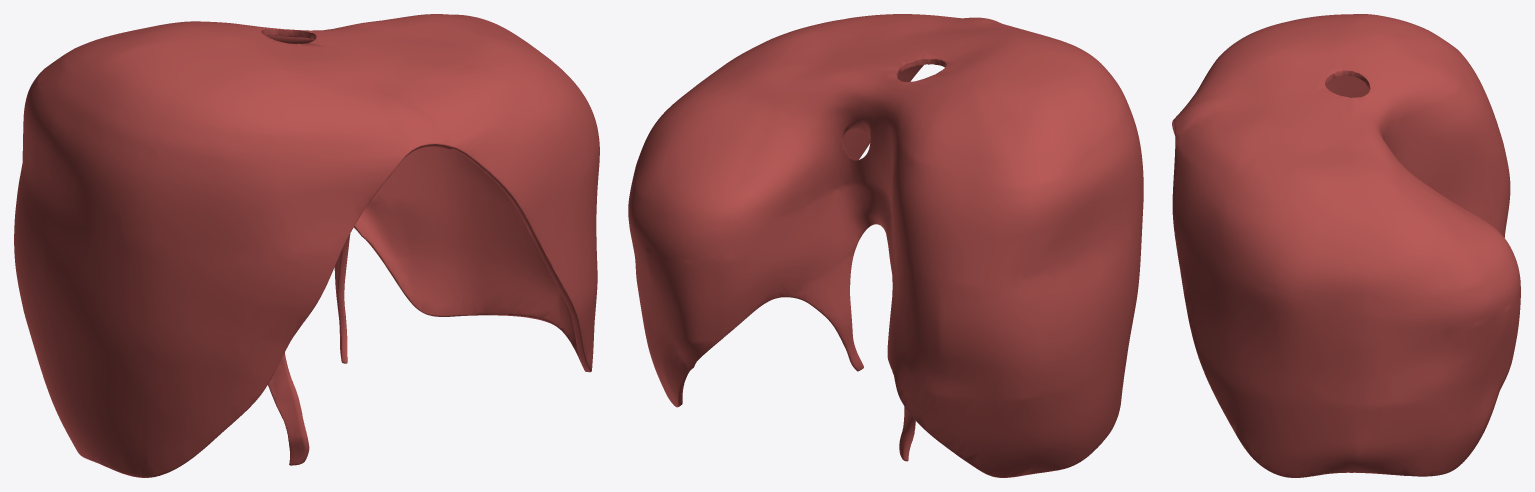
Rendered from diaphragm.glb.
3 views of the same model, side by side, from view 1: azimuth 30°, elevation 25°; view 2: azimuth 150°, elevation 25°; view 3: azimuth 270°, elevation 25° (orthographic). The views are drawn at different scales.
Parts seen in each view (by area): view 1: diaphragm; view 2: diaphragm; view 3: diaphragm.
Part boxes in pixels (box(x1,y1,x2,y2)): diaphragm: box(14, 14, 599, 477); diaphragm: box(628, 14, 1143, 477); diaphragm: box(1172, 14, 1520, 477).
Size of the model in its own units: 0.2432 by 0.2067 by 0.1794.
